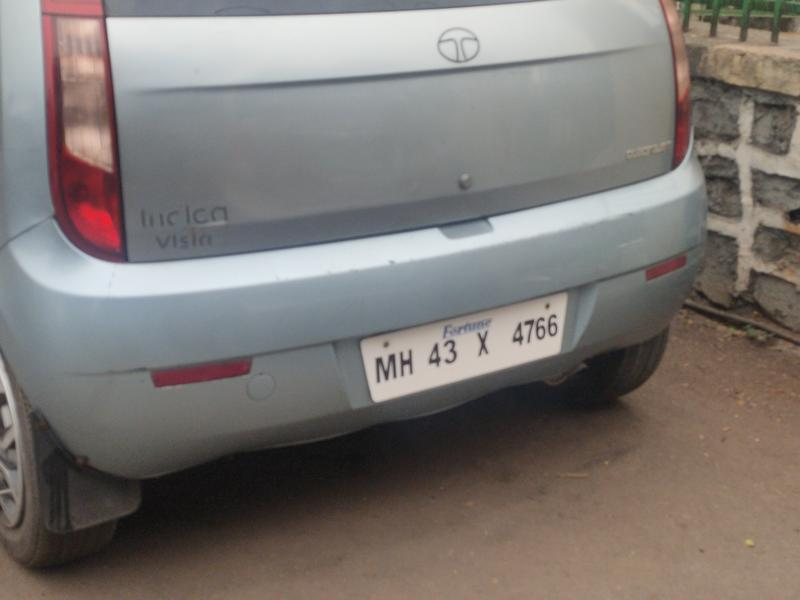license_plate: (354, 286, 579, 421)
